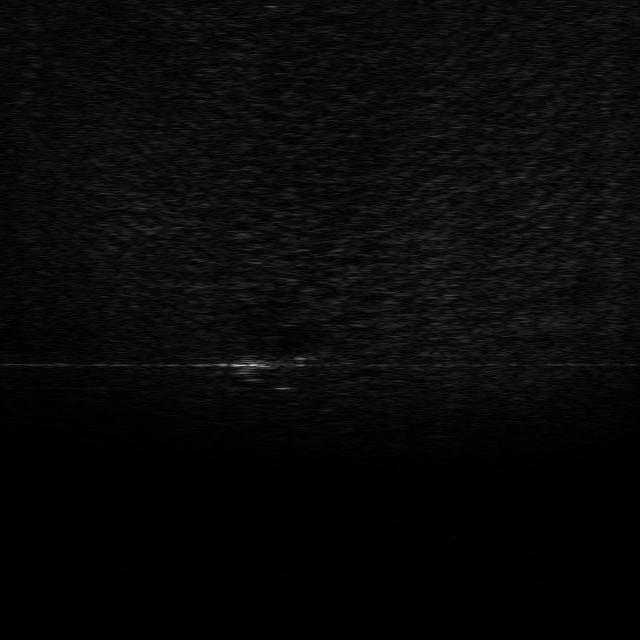plane: (226, 343, 325, 391)
